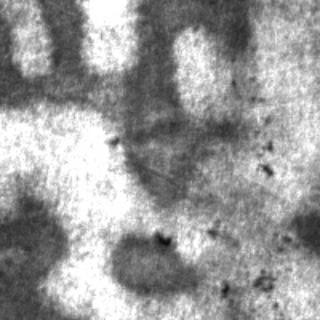patches: (101, 0, 237, 206), (0, 0, 100, 108), (0, 182, 68, 318), (132, 0, 256, 58), (103, 228, 197, 294), (286, 202, 318, 254)
